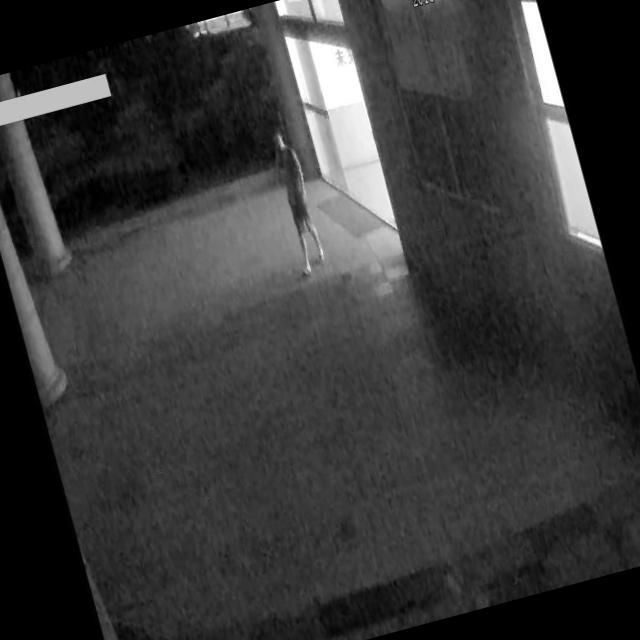person: (260, 120, 335, 282)
